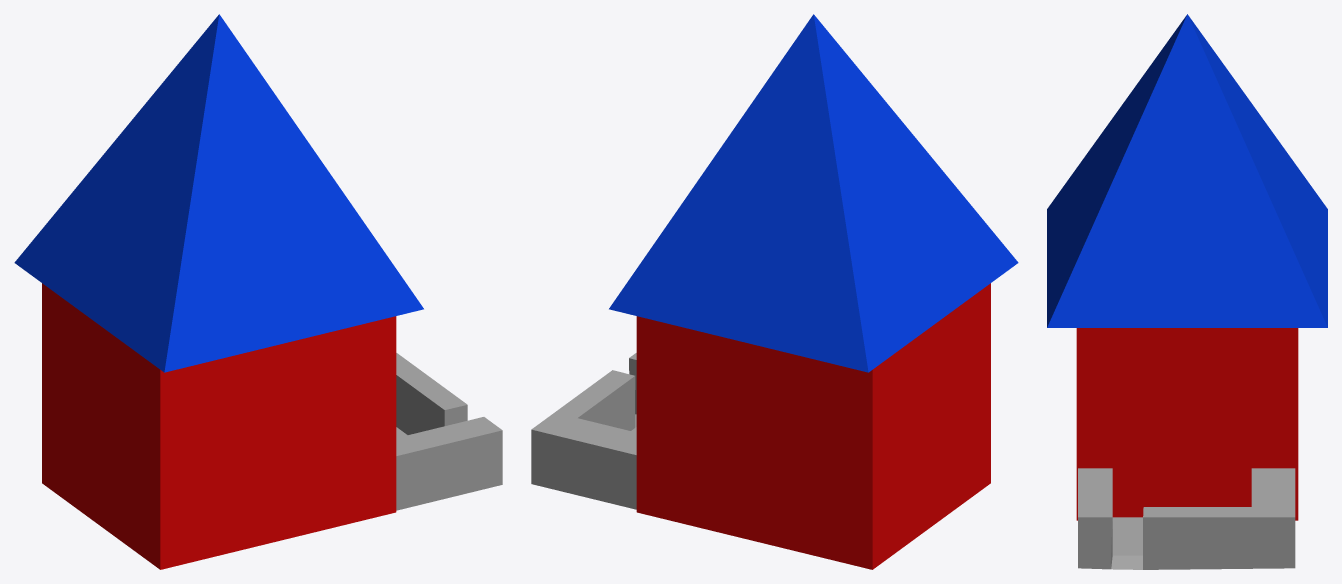
File: house_and_fence.fbx
3 renders of one model, left to right at view 1: azimuth 30°, elevation 25°; view 2: azimuth 150°, elevation 25°; view 3: azimuth 270°, elevation 25°, orthographic. The views are drawn at different scales.
Parts seen in each view (by area): view 1: pCube105; view 2: pCube105; view 3: pCube105.
Part boxes in pixels (bbox=[...]): pCube105: bbox=[14, 14, 502, 569]; pCube105: bbox=[531, 14, 1018, 569]; pCube105: bbox=[1047, 14, 1327, 569].
Bounding box in the file's own units: 19.51 × 25.47 × 14.3.
